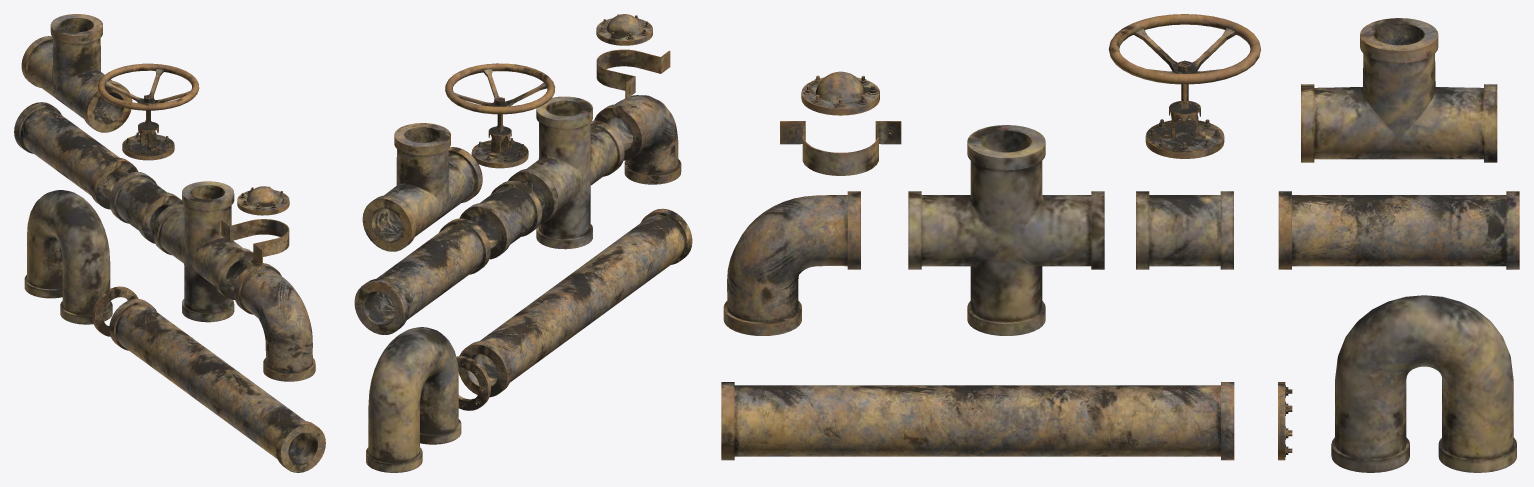
Rendered from feixe-tubos.glb.
The picture shows the model from 3 angles, left to right: view 1: azimuth 30°, elevation 25°; view 2: azimuth 150°, elevation 25°; view 3: azimuth 270°, elevation 25°; orthographic projection. The views are drawn at different scales.
Visible parts, largest first — view 1: Pipe_6, Cylinder, Pipe_2, Pipe_5, Pipe_1, Pipe_4, Pipe_3, obturator, Cylinder.002, Cylinder.003, Cylinder.001, Cylinder.005; view 2: Pipe_6, Cylinder, Pipe_2, Pipe_5, Pipe_4, Pipe_1, Pipe_3, obturator, Cylinder.002, Cylinder.003, Cylinder.001, Cylinder.005; view 3: Pipe_6, Cylinder, Pipe_2, Pipe_5, Pipe_4, Pipe_1, Pipe_3, obturator, Cylinder.002, Cylinder.003, Cylinder.001, Cylinder.005.
Boxes of the visible parts, left/top/right/bottom form: Pipe_6: left=109, top=299, right=325, bottom=472; Cylinder: left=24, top=190, right=112, bottom=324; Pipe_2: left=152, top=181, right=258, bottom=322; Pipe_5: left=21, top=14, right=132, bottom=132; Pipe_1: left=234, top=263, right=315, bottom=381; Pipe_4: left=14, top=102, right=138, bottom=209; Pipe_3: left=109, top=172, right=182, bottom=243; obturator: left=97, top=63, right=199, bottom=135; Cylinder.002: left=221, top=219, right=289, bottom=264; Cylinder.003: left=237, top=186, right=289, bottom=215; Cylinder.001: left=122, top=130, right=174, bottom=160; Cylinder.005: left=92, top=286, right=138, bottom=336; Pipe_6: left=458, top=208, right=692, bottom=397; Cylinder: left=366, top=327, right=461, bottom=472; Pipe_2: left=508, top=96, right=624, bottom=249; Pipe_5: left=362, top=123, right=482, bottom=251; Pipe_4: left=354, top=218, right=490, bottom=334; Pipe_1: left=594, top=95, right=681, bottom=184; Pipe_3: left=459, top=180, right=542, bottom=259; obturator: left=445, top=63, right=555, bottom=141; Cylinder.002: left=596, top=49, right=670, bottom=99; Cylinder.003: left=596, top=14, right=652, bottom=45; Cylinder.001: left=471, top=136, right=528, bottom=168; Cylinder.005: left=456, top=356, right=490, bottom=410; Pipe_6: left=721, top=382, right=1234, bottom=460; Cylinder: left=1331, top=295, right=1516, bottom=472; Pipe_2: left=908, top=125, right=1104, bottom=335; Pipe_5: left=1301, top=18, right=1497, bottom=162; Pipe_4: left=1278, top=191, right=1519, bottom=269; Pipe_1: left=723, top=191, right=860, bottom=335; Pipe_3: left=1136, top=191, right=1233, bottom=269; obturator: left=1108, top=14, right=1260, bottom=122; Cylinder.002: left=780, top=121, right=901, bottom=175; Cylinder.003: left=801, top=71, right=879, bottom=115; Cylinder.001: left=1145, top=115, right=1224, bottom=158; Cylinder.005: left=1278, top=382, right=1292, bottom=460.
Bounding box in the file's own units: 0.5458 × 1.67 × 2.86.
Materials: 1 (1 with a texture image).
